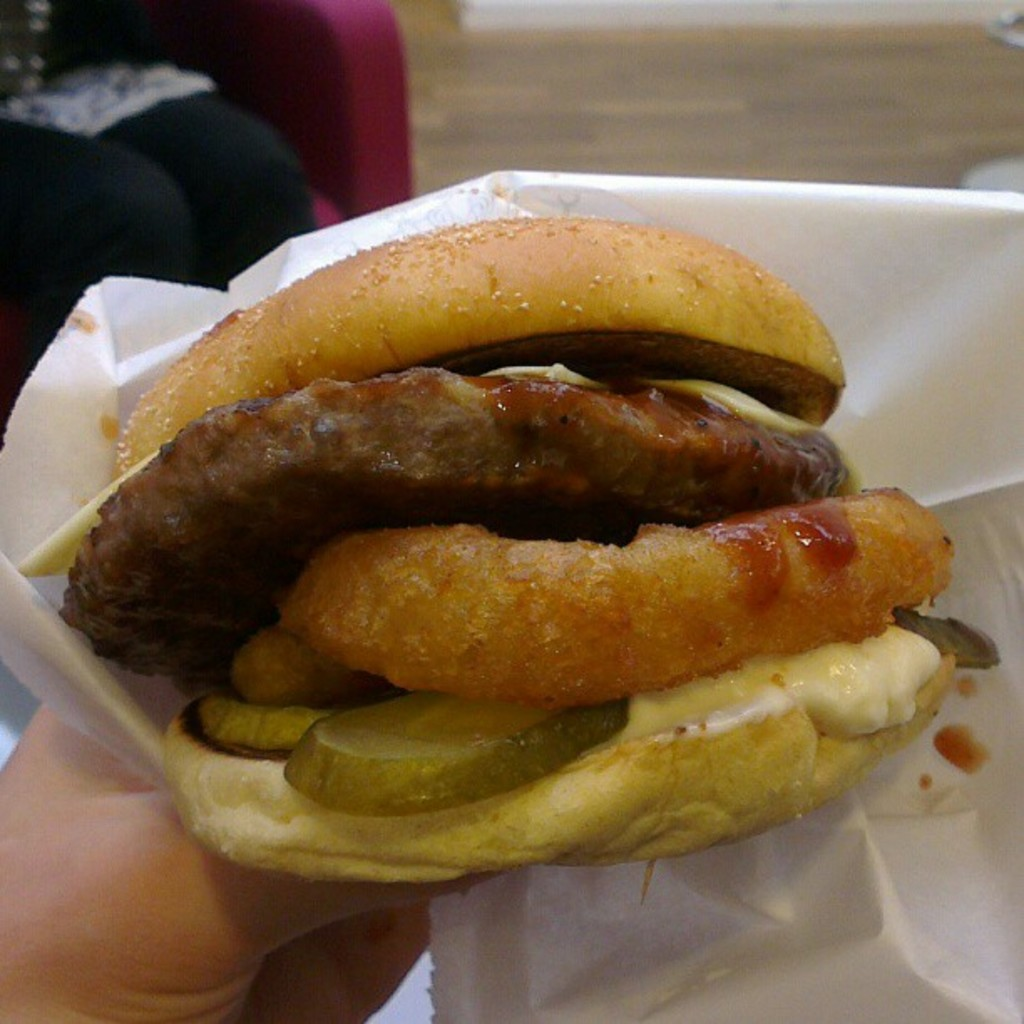sandwich: (55, 214, 955, 880)
